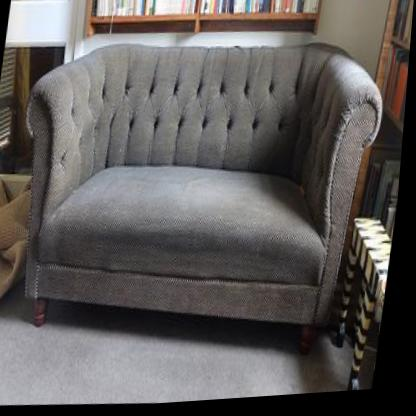Sofa: (1, 25, 398, 347)
